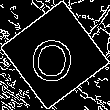O_N: (30, 26, 80, 84)
